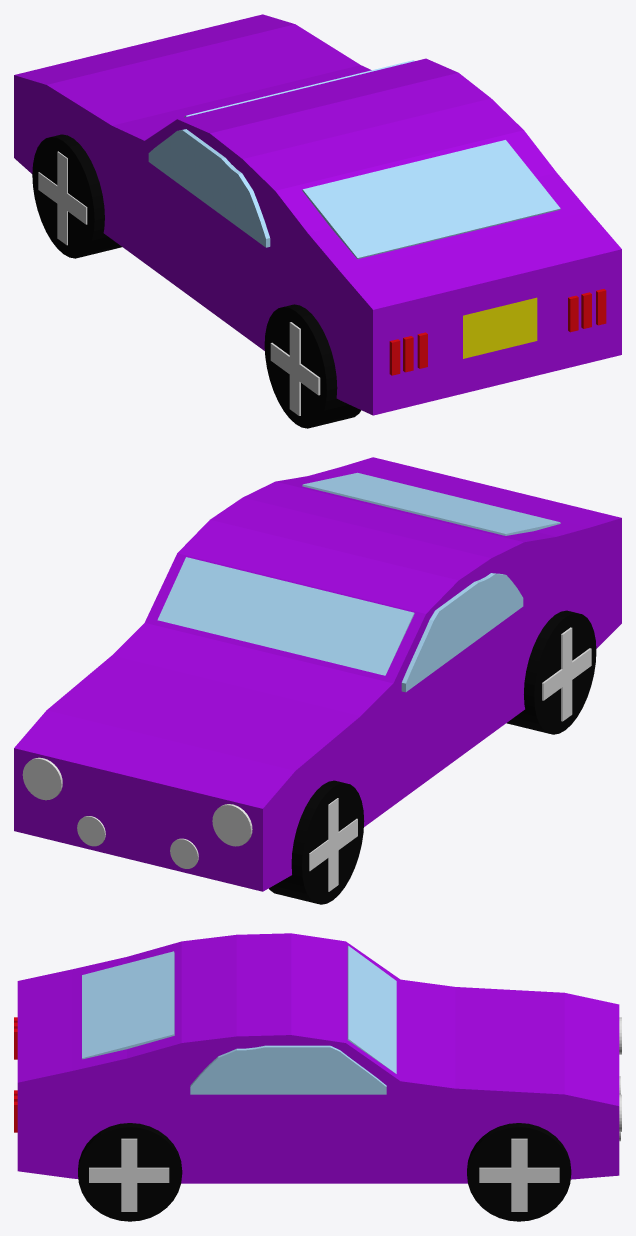
The model's file is Purple_Car.glb.
The picture shows the model from 3 angles, top to bottom: view 1: azimuth 30°, elevation 25°; view 2: azimuth 150°, elevation 25°; view 3: azimuth 270°, elevation 25°; orthographic projection. The views are drawn at different scales.
Parts seen in each view (by area): view 1: Car_Body, Wheels, License_Plate, TailLights, Wheel_Decoration_4, Wheel_Decoration_3; view 2: Car_Body, Wheels, Headlights, Wheel_Decoration_4, Wheel_Decoration_3; view 3: Car_Body, Wheels, Wheel_Decoration_2, Wheel_Decoration_1.
Boxes of the visible parts, left/top/right/bottom form: Car_Body: left=14, top=14, right=621, bottom=415; Wheels: left=32, top=134, right=361, bottom=428; License_Plate: left=463, top=297, right=537, bottom=358; TailLights: left=389, top=289, right=606, bottom=375; Wheel_Decoration_4: left=270, top=322, right=320, bottom=415; Wheel_Decoration_3: left=38, top=151, right=87, bottom=245; Car_Body: left=14, top=457, right=621, bottom=891; Wheels: left=269, top=610, right=596, bottom=904; Headlights: left=22, top=757, right=252, bottom=868; Wheel_Decoration_4: left=542, top=627, right=591, bottom=721; Wheel_Decoration_3: left=309, top=798, right=357, bottom=891; Car_Body: left=17, top=933, right=619, bottom=1183; Wheels: left=78, top=1123, right=571, bottom=1221; Wheel_Decoration_2: left=479, top=1138, right=559, bottom=1211; Wheel_Decoration_1: left=89, top=1138, right=169, bottom=1211.
Bounding box in the file's own units: 1.32 × 1 × 3.03.
